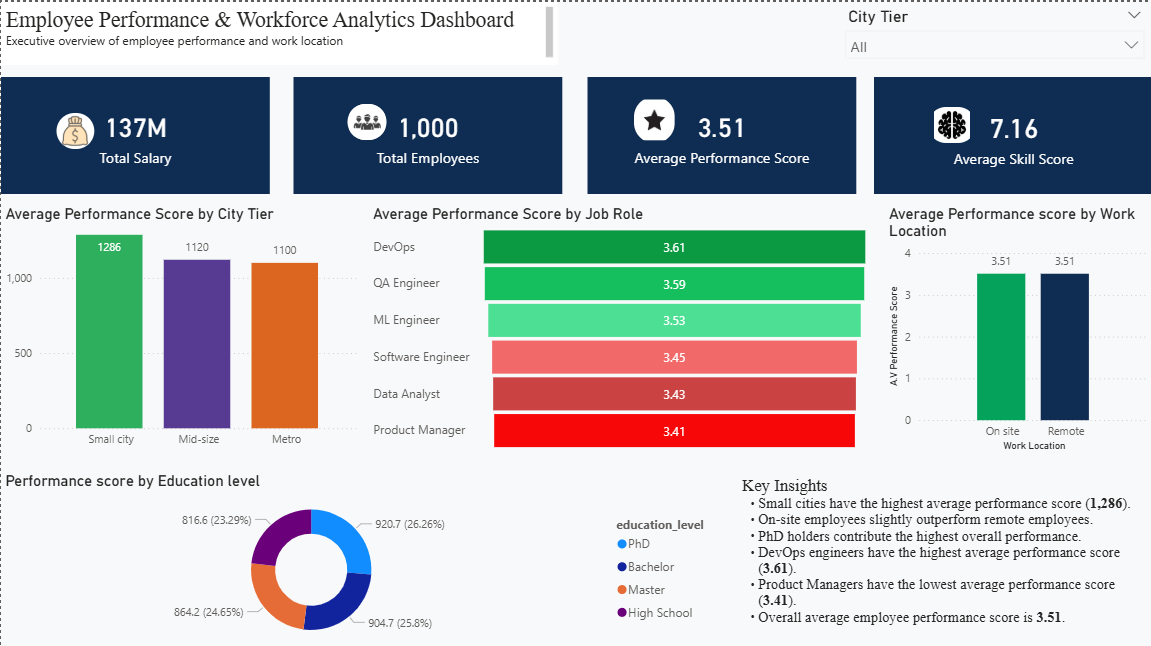

The page's visual inventory and layout, read from the dashboard file:
{"tool":"powerbi","page":{"name":"Employee Performance & Workforce Analytics Dashboard","canvas":[1280,720],"ordinal":2},"visuals":[{"type":"card","fields":{"Values":["employee_salary_regression.Total Salary"]},"box":[0,83.3,298.3,130],"z":0},{"type":"card","fields":{"Values":["employee_salary_regression.Total Employee"]},"box":[325,83.3,298.3,130],"z":1000},{"type":"card","fields":{"Values":["employee_salary_regression.Average skill"]},"box":[970,83.3,310,130],"z":2000},{"type":"slicer","fields":{"Values":["employee_salary_regression.city_tier"]},"box":[928.3,0,351.7,70],"z":3000},{"type":"card","fields":{"Values":["employee_salary_regression.A.V Performance Score"]},"box":[651.7,83.3,298.3,130],"z":4000},{"type":"funnel","title":"Average Performance Score by Job Role","fields":{"Category":["employee_salary_regression.job_role"],"Y":["employee_salary_regression.A.V Performance Score"]},"box":[408.3,225,561.7,278.3],"z":5000},{"type":"donutChart","title":"Performance score by Education level","fields":{"Category":["employee_salary_regression.education_level"],"Y":["Sum(employee_salary_regression.performance_score)"]},"box":[0,521.7,801.7,198.3],"z":6000},{"type":"clusteredColumnChart","title":"Average Performance Score by City Tier ","fields":{"Category":["employee_salary_regression.city_tier"],"Y":["Sum(employee_salary_regression.performance_score)"]},"box":[0,225,400,278.3],"z":7000},{"type":"clusteredColumnChart","title":"Average Performance score by Work Location","fields":{"Y":["employee_salary_regression.A.V Performance Score"],"Category":["employee_salary_regression.remote_work"]},"box":[981.7,225,298.3,278.3],"z":8000},{"type":"image","box":[61.7,123.3,41.7,40],"z":9000},{"type":"image","box":[385,113.3,43.3,40],"z":10000},{"type":"image","box":[703.3,105,45,51.7],"z":11000},{"type":"image","box":[1030,116.7,53.3,40],"z":12000},{"type":"textbox","box":[0,0,618.3,70],"z":12001},{"type":"textbox","box":[818.3,521.7,461.7,198.3],"z":12002}]}

Visuals, with their boxes in screenshot pixels (x1, y1, x2, y2), scaled from the page's 1280x720 canvas onto the 1151x646 screenshot:
card - employee_salary_regression.Total Salary: (x1=0, y1=75, x2=268, y2=191)
card - employee_salary_regression.Total Employee: (x1=292, y1=75, x2=560, y2=191)
card - employee_salary_regression.Average skill: (x1=872, y1=75, x2=1150, y2=191)
slicer - employee_salary_regression.city_tier: (x1=835, y1=0, x2=1150, y2=63)
card - employee_salary_regression.A.V Performance Score: (x1=586, y1=75, x2=854, y2=191)
"Average Performance Score by Job Role" funnel: (x1=367, y1=202, x2=872, y2=452)
"Performance score by Education level" donutChart: (x1=0, y1=468, x2=721, y2=645)
"Average Performance Score by City Tier " clusteredColumnChart: (x1=0, y1=202, x2=360, y2=452)
"Average Performance score by Work Location" clusteredColumnChart: (x1=883, y1=202, x2=1150, y2=452)
image: (x1=55, y1=111, x2=93, y2=147)
image: (x1=346, y1=102, x2=385, y2=138)
image: (x1=632, y1=94, x2=673, y2=141)
image: (x1=926, y1=105, x2=974, y2=141)
textbox: (x1=0, y1=0, x2=556, y2=63)
textbox: (x1=736, y1=468, x2=1150, y2=645)
